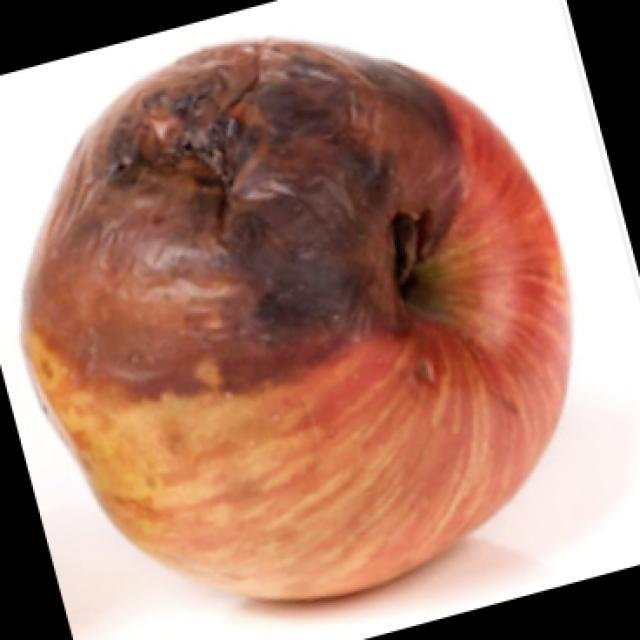Rotten: (32, 43, 553, 595)
